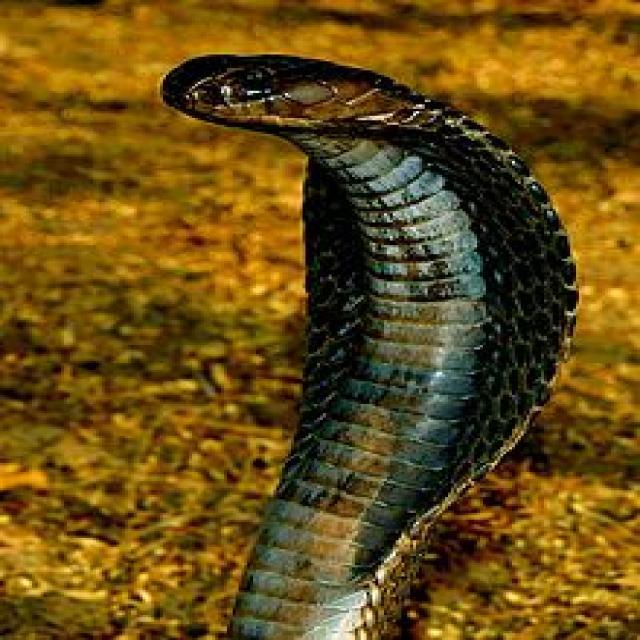Snake: (154, 50, 579, 638)
